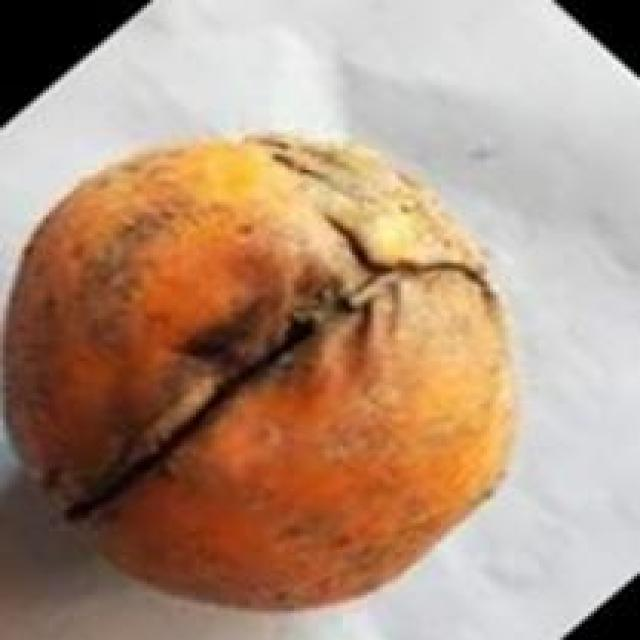damaged: (0, 130, 524, 616)
